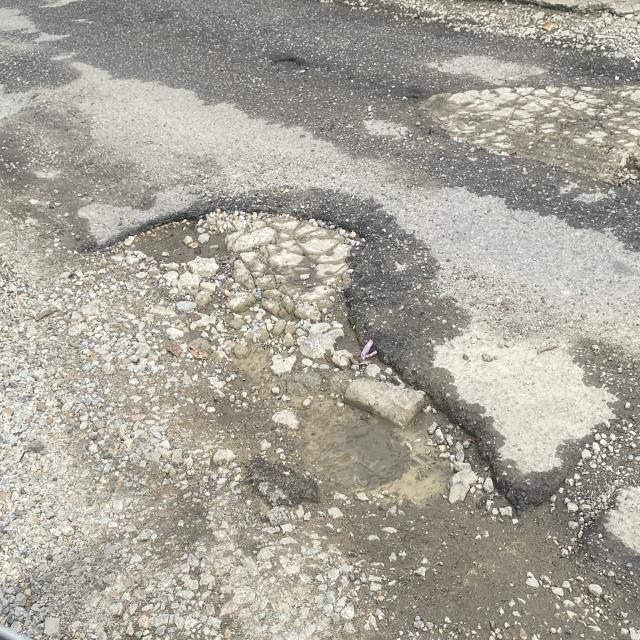Pothole: (130, 153, 540, 553)
